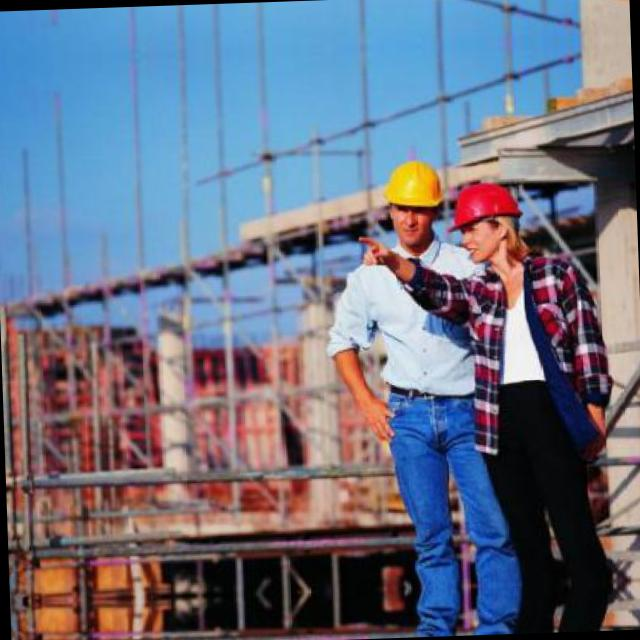helmet: (441, 174, 527, 268), (375, 150, 451, 252)
